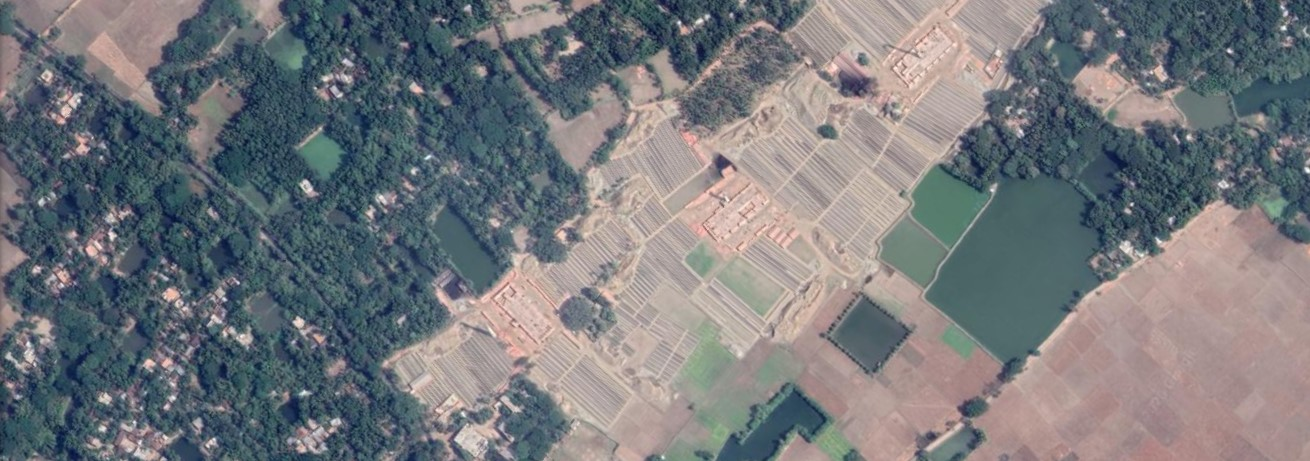kiln: (476, 294, 552, 355), (697, 189, 767, 234), (885, 37, 960, 78)
